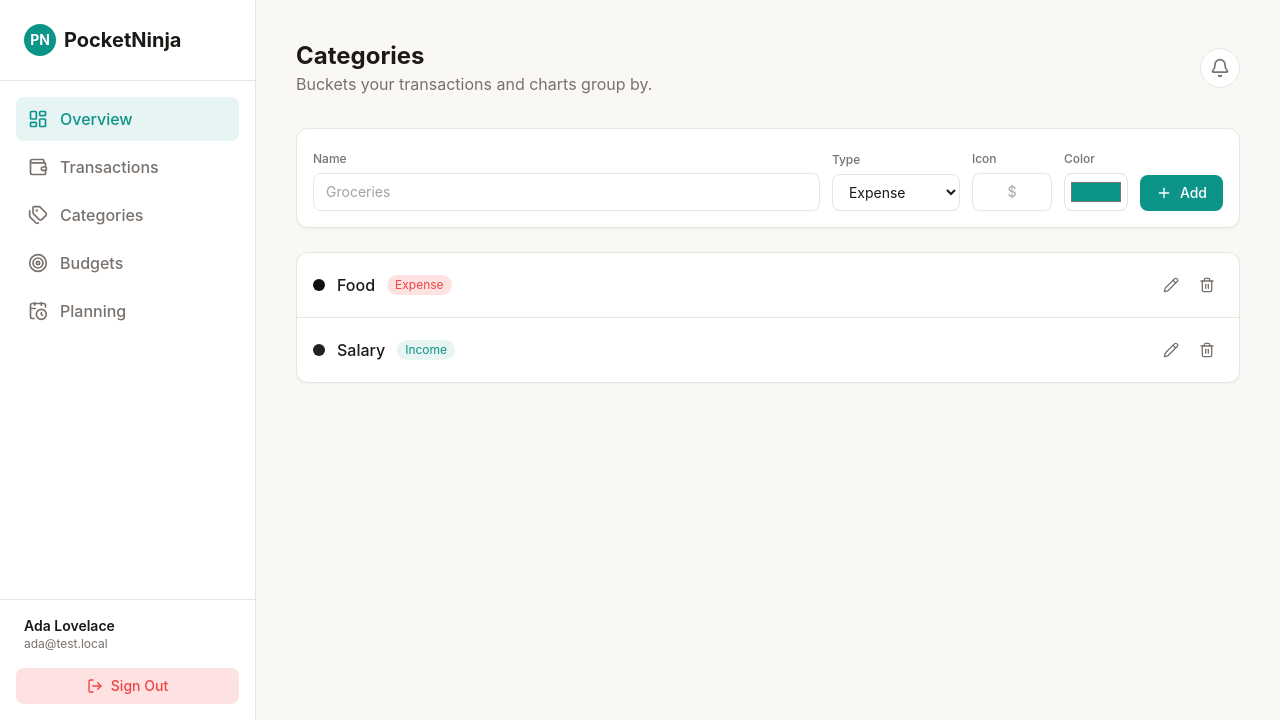
Scenario: CategoriesPage › a failed edit keeps the row in edit mode and shows the message
Expected: the text "Food" is shown, [337, 273, 375, 297]
What coordinates should you click on to do the following:
click the button named "Edit category" in the row of "expense"
I would click on:
 (1171, 285)
Its box is [1155, 269, 1187, 301].
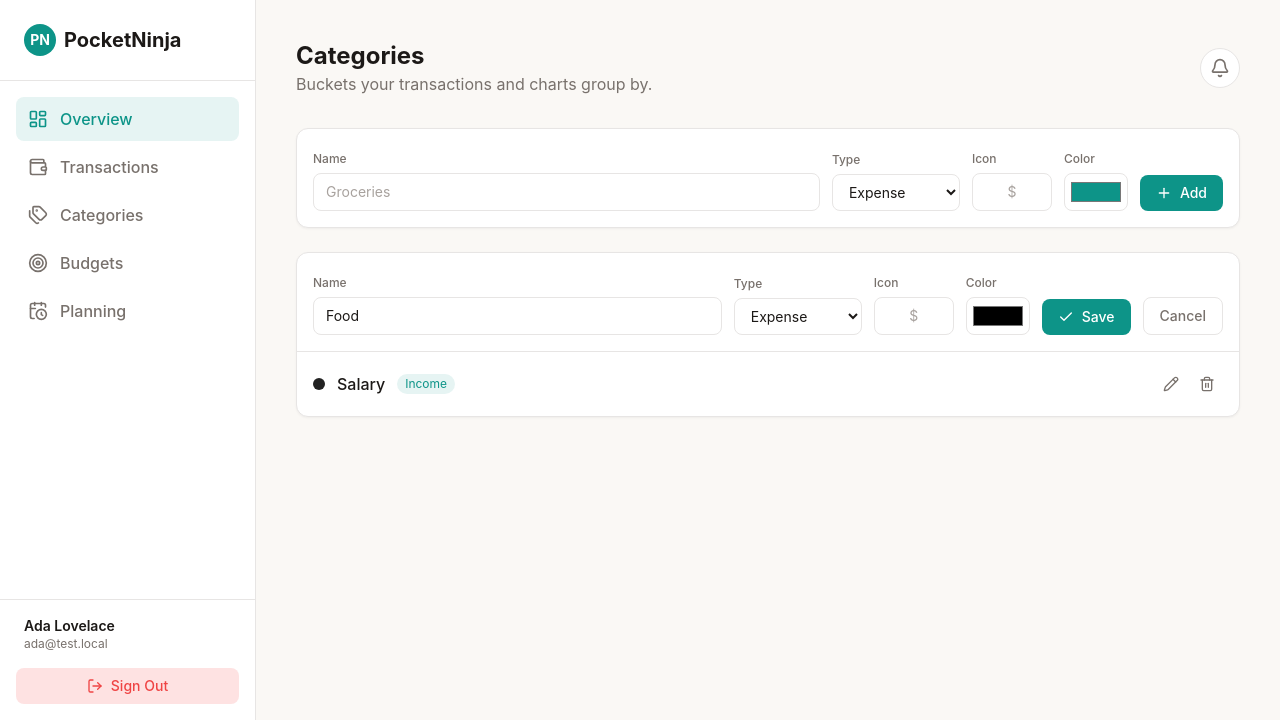
What coordinates should you click on to do the following:
click the button "Save"
I would click on:
 (1086, 317)
Its box is [1042, 299, 1130, 335].
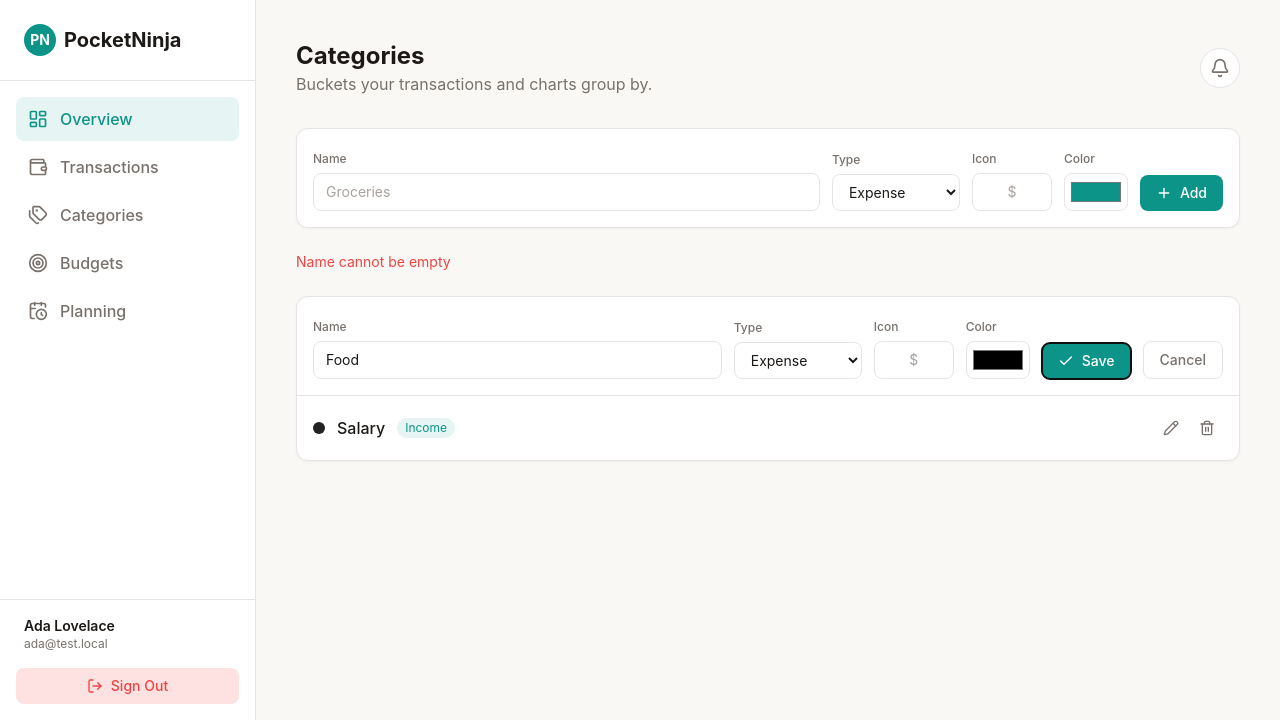
Now the button "Cancel" is shown, box [1142, 341, 1223, 379]
Now the text "Name cannot be empty" is shown, box [296, 253, 451, 270]
